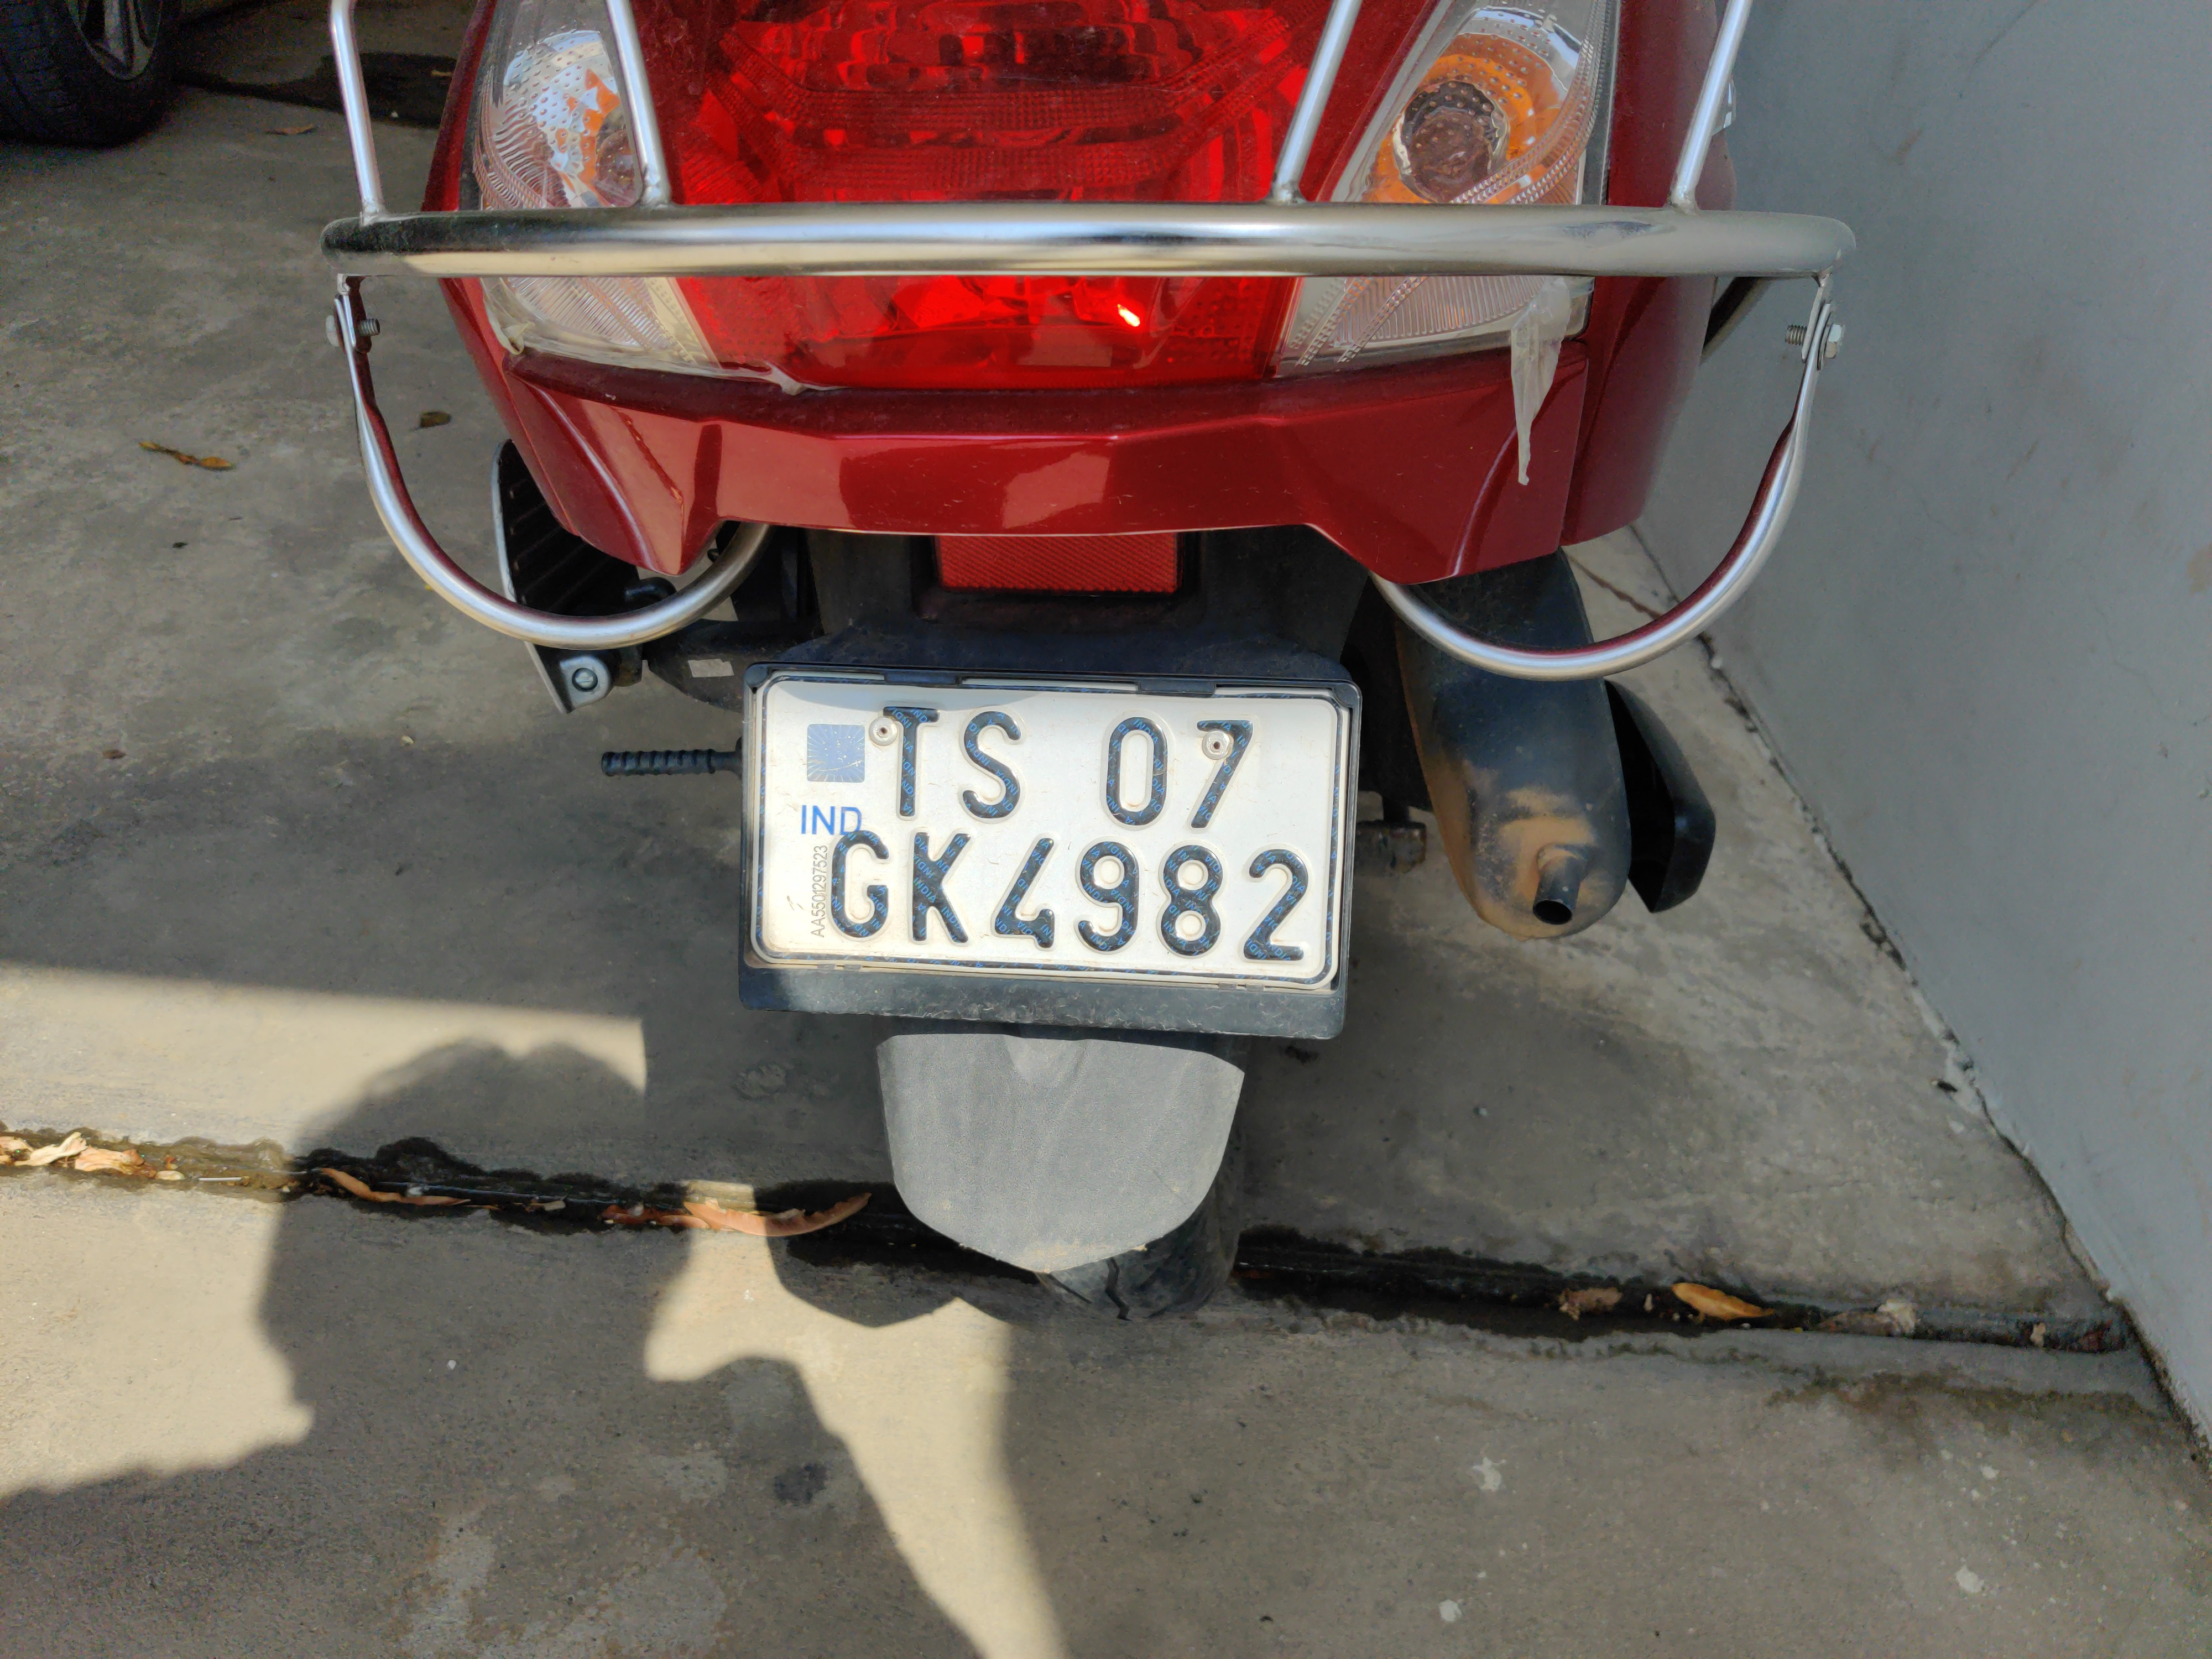plate: (716, 644, 1418, 1065)
